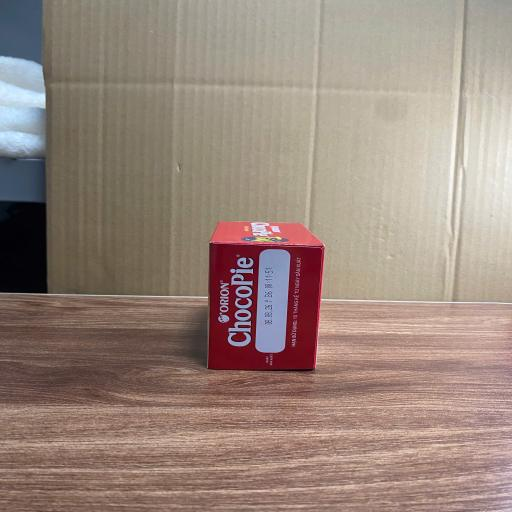chocopie: (209, 221, 323, 369)
